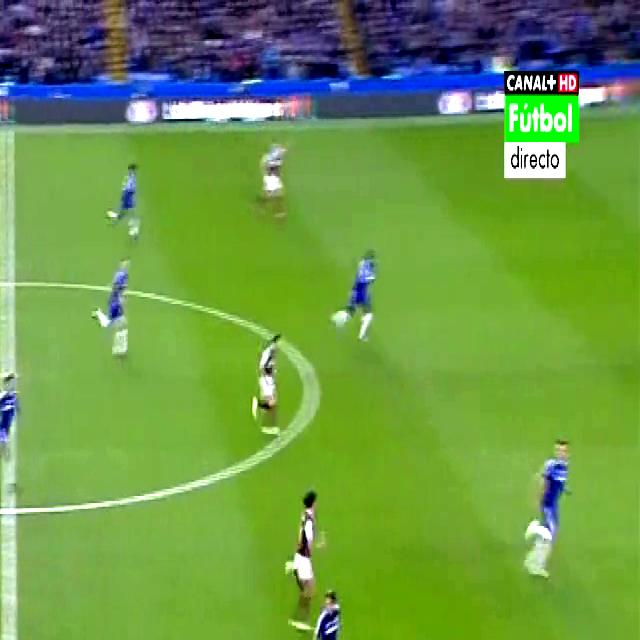soccer-player: (514, 438, 579, 608), (249, 113, 313, 235), (329, 227, 390, 354), (240, 298, 288, 456), (84, 243, 140, 377), (284, 469, 324, 640), (99, 144, 150, 255), (0, 343, 31, 510), (311, 581, 355, 640)
